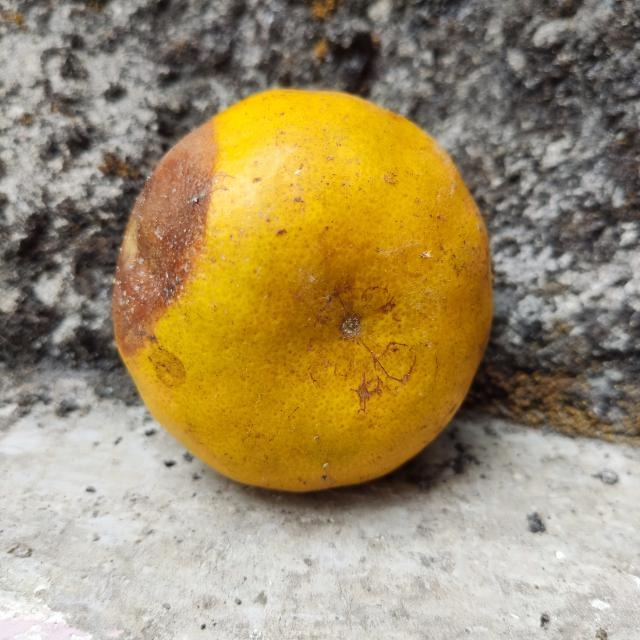agrume: (109, 85, 491, 491)
